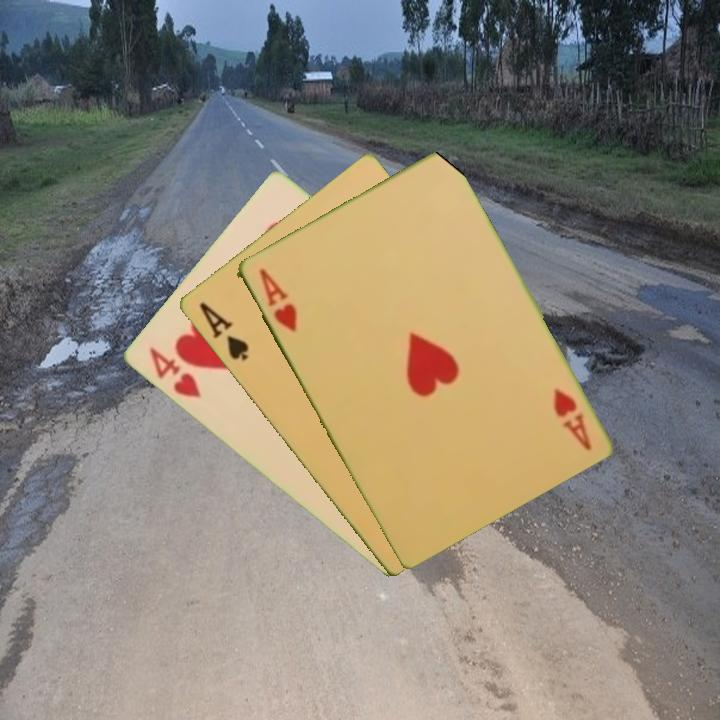4h: (145, 343, 204, 402)
Ah: (255, 264, 300, 335), (549, 384, 594, 454)
As: (195, 298, 252, 364)
